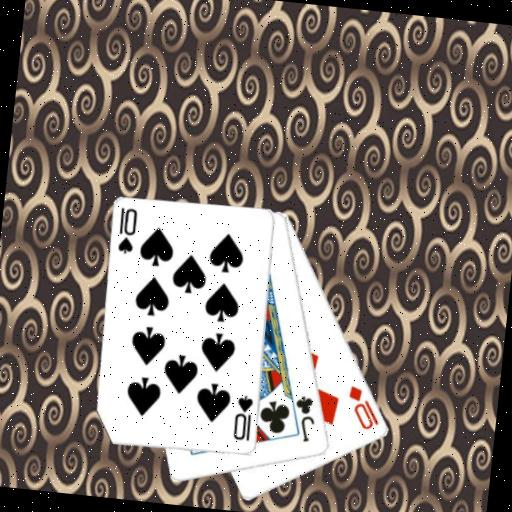10D: (342, 382, 384, 433)
10S: (114, 205, 141, 257), (230, 392, 256, 444)
JC: (288, 393, 319, 446)
